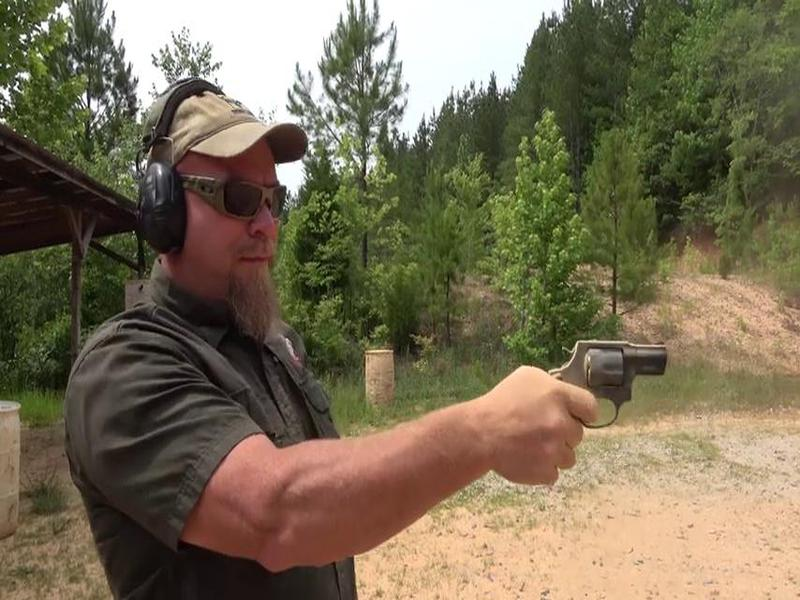Revolver: (533, 324, 680, 440)
